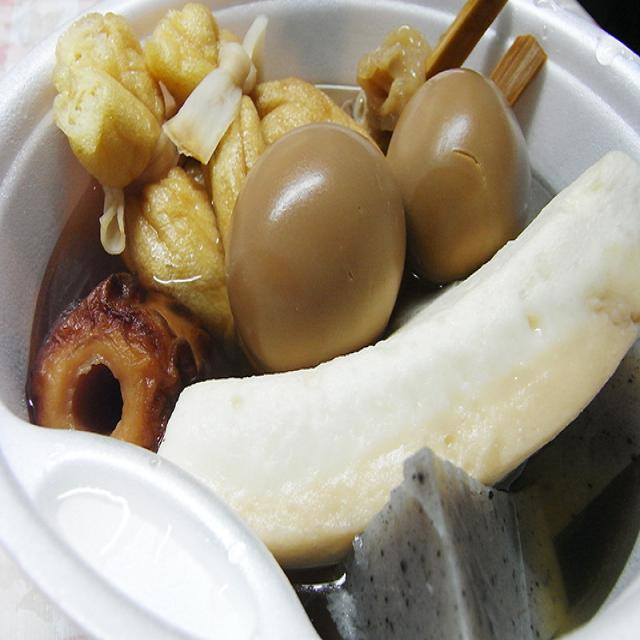汤锅炖物: (21, 0, 640, 640)
